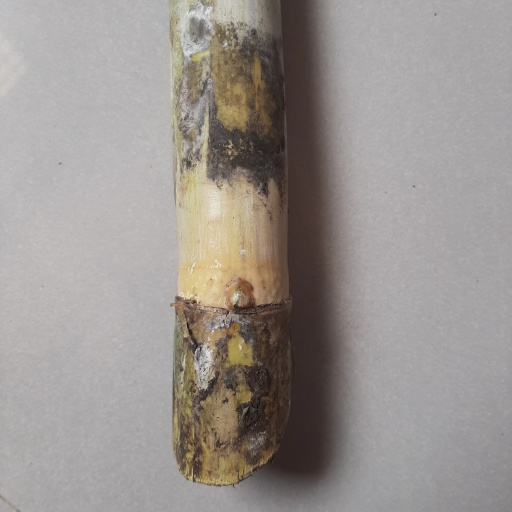Bud: (224, 277, 256, 310)
